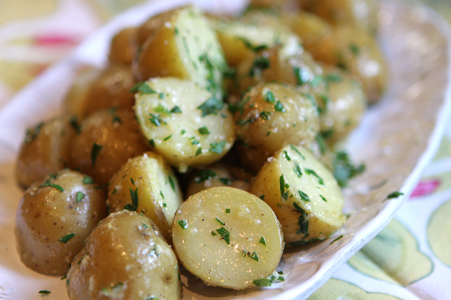boiled potatoes: (25, 32, 386, 300)
